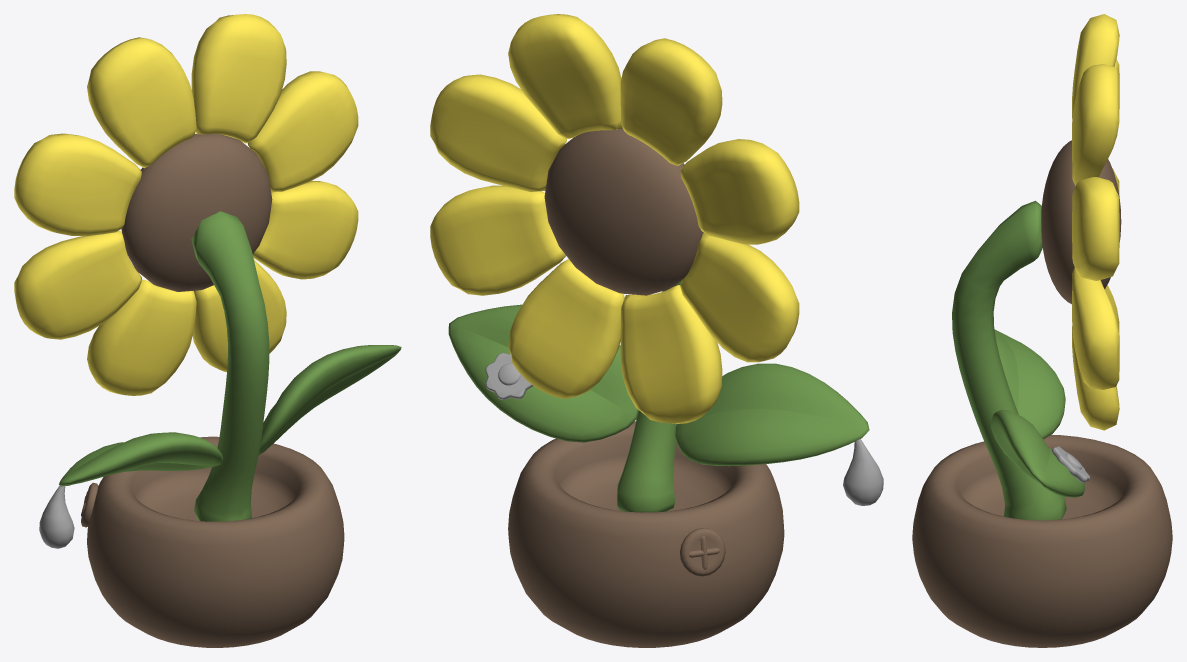
3 views of the same model, side by side, from view 1: azimuth 30°, elevation 25°; view 2: azimuth 150°, elevation 25°; view 3: azimuth 270°, elevation 25° (orthographic). The views are drawn at different scales.
Parts seen in each view (by area): view 1: S_Lvl1_5, S_Lvl1_2, S_Lvl1_1, S_Lvl1_7, S_Lvl1_6, S_Lvl1_8, S_Lvl1_13, S_Lvl1_9, S_Lvl1_12, S_Lvl1_11, S_Lvl1_4, S_Lvl1_3 (+2 smaller); view 2: S_Lvl1_5, S_Lvl1_2, S_Lvl1_3, S_Lvl1_11, S_Lvl1_10, S_Lvl1_12, S_Lvl1_9, S_Lvl1_13, S_Lvl1_8, S_Lvl1_4, S_Lvl1_6, S_Lvl1_7 (+4 smaller); view 3: S_Lvl1_5, S_Lvl1_1, S_Lvl1_13, S_Lvl1_12, S_Lvl1_11, S_Lvl1_2, S_Lvl1_3, S_Lvl1_4, S_Lvl1_6, S_Lvl1_10, D_MotorBike_69.
Part boxes in pixels (x1,y1,x2,y2): S_Lvl1_5: [87, 436, 344, 647]; S_Lvl1_2: [121, 134, 272, 291]; S_Lvl1_1: [191, 211, 269, 521]; S_Lvl1_7: [14, 133, 141, 235]; S_Lvl1_6: [87, 37, 196, 168]; S_Lvl1_8: [14, 231, 141, 339]; S_Lvl1_13: [191, 14, 286, 143]; S_Lvl1_9: [87, 279, 196, 395]; S_Lvl1_12: [247, 71, 358, 191]; S_Lvl1_11: [253, 181, 358, 279]; S_Lvl1_4: [258, 345, 401, 454]; S_Lvl1_3: [59, 432, 222, 486]; S_Lvl1_5: [508, 421, 784, 647]; S_Lvl1_2: [544, 128, 703, 295]; S_Lvl1_3: [675, 363, 869, 466]; S_Lvl1_11: [430, 185, 565, 295]; S_Lvl1_10: [508, 259, 624, 398]; S_Lvl1_12: [430, 74, 566, 191]; S_Lvl1_9: [620, 285, 722, 423]; S_Lvl1_13: [508, 14, 622, 138]; S_Lvl1_8: [680, 233, 799, 362]; S_Lvl1_4: [448, 304, 638, 442]; S_Lvl1_6: [620, 38, 722, 165]; S_Lvl1_7: [680, 139, 799, 244]; S_Lvl1_5: [912, 434, 1172, 647]; S_Lvl1_1: [952, 200, 1066, 520]; S_Lvl1_13: [1072, 64, 1119, 185]; S_Lvl1_12: [1072, 177, 1119, 280]; S_Lvl1_11: [1072, 267, 1119, 389]; S_Lvl1_2: [1041, 140, 1121, 304]; S_Lvl1_3: [994, 329, 1065, 439]; S_Lvl1_4: [991, 409, 1085, 497]; S_Lvl1_6: [1072, 14, 1119, 122]; S_Lvl1_10: [1072, 326, 1119, 430]; D_MotorBike_69: [1051, 446, 1089, 482].
Bounding box in the file's own units: 284 × 412 × 167.
